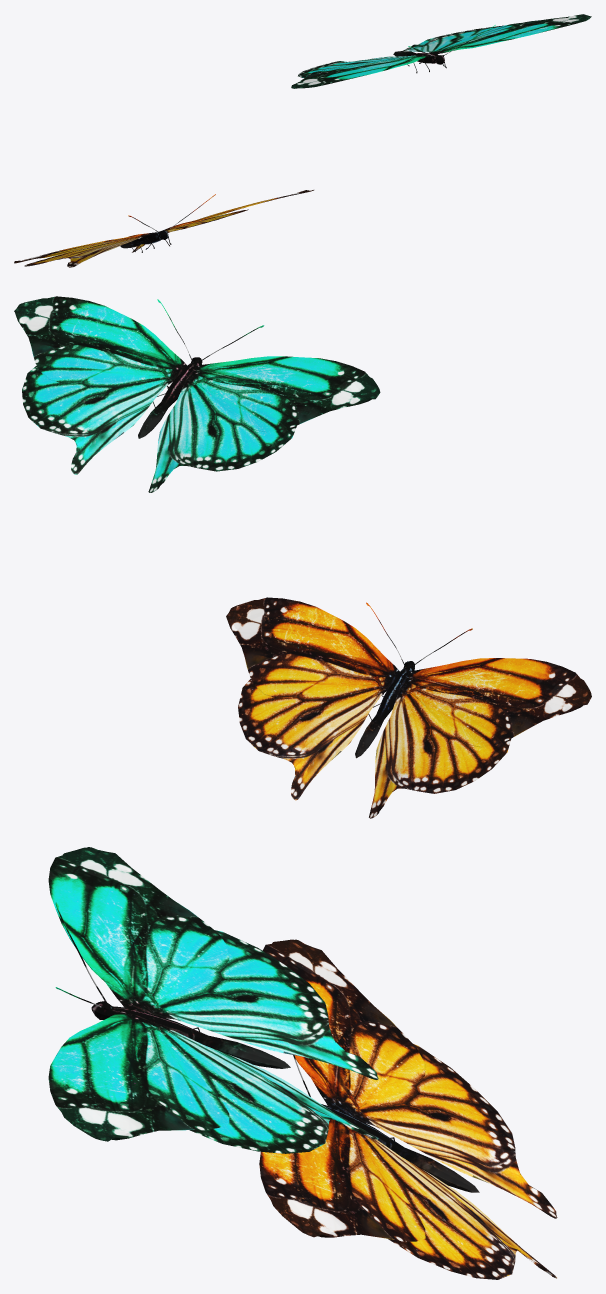
Rendered from butterflies.glb.
The picture shows the model from 3 angles, top to bottom: view 1: azimuth 30°, elevation 25°; view 2: azimuth 150°, elevation 25°; view 3: azimuth 270°, elevation 25°; orthographic projection. The views are drawn at different scales.
Visible parts, largest first — view 1: 5, 4, 1, 2, 0, 3; view 2: 2, 5, 1, 4, 0, 3; view 3: 5, 2, 4, 1, 3, 0.
Part boxes in pixels (x1=…): 5: x1=291, y1=14, x2=591, y2=88; 4: x1=298, y1=25, x2=503, y2=77; 1: x1=24, y1=209, x2=248, y2=267; 2: x1=14, y1=190, x2=313, y2=263; 0: x1=120, y1=194, x2=215, y2=252; 3: x1=393, y1=25, x2=495, y2=73; 2: x1=226, y1=597, x2=591, y2=747; 5: x1=14, y1=296, x2=380, y2=432; 1: x1=238, y1=679, x2=510, y2=818; 4: x1=22, y1=365, x2=296, y2=492; 0: x1=355, y1=602, x2=472, y2=758; 3: x1=138, y1=299, x2=264, y2=438; 5: x1=48, y1=847, x2=229, y2=1141; 2: x1=259, y1=939, x2=425, y2=1241; 4: x1=149, y1=930, x2=378, y2=1153; 1: x1=351, y1=1044, x2=557, y2=1279; 3: x1=55, y1=902, x2=290, y2=1068; 0: x1=293, y1=1055, x2=479, y2=1192.
Size of the model in its own units: 300 by 144 by 127.
Materials: 2 (2 with a texture image).
